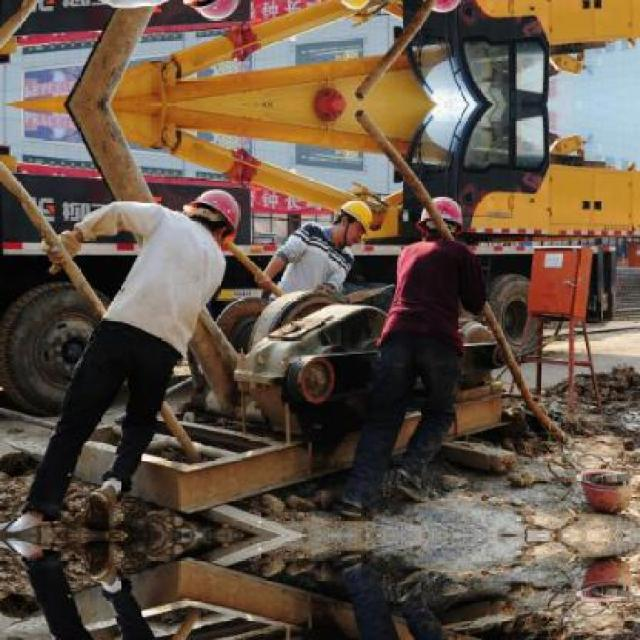helmet: (179, 186, 239, 245), (330, 191, 375, 246), (424, 194, 462, 240), (178, 0, 240, 22), (330, 0, 376, 17), (423, 0, 463, 14)
